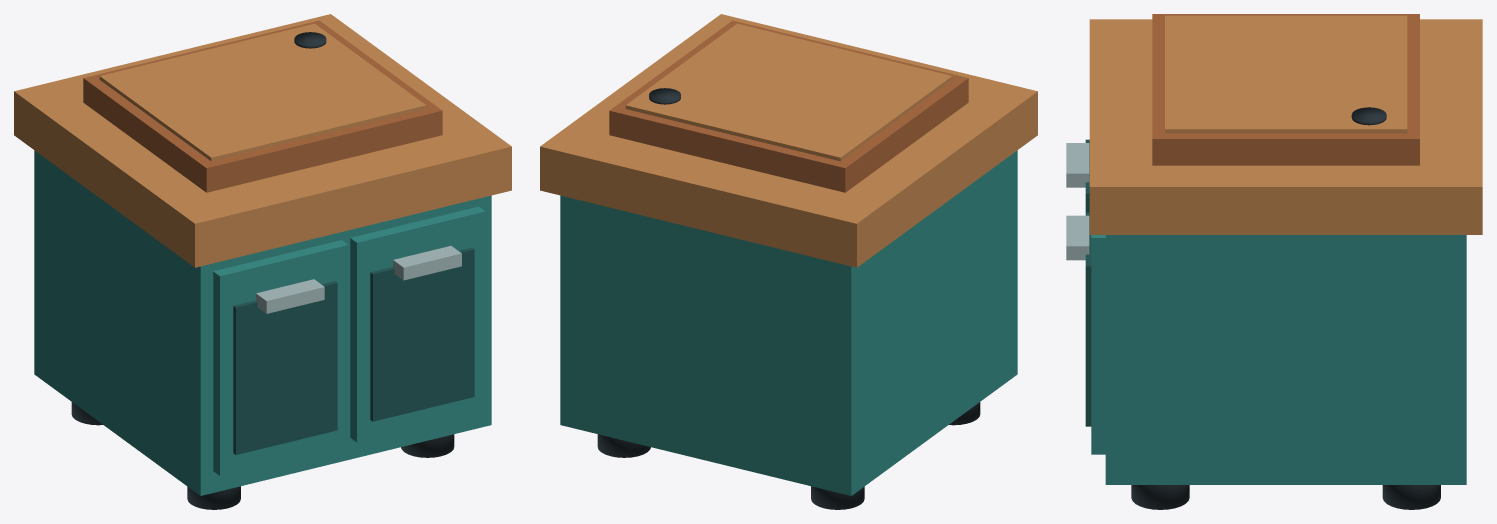
3 views of the same model, side by side, from view 1: azimuth 30°, elevation 25°; view 2: azimuth 150°, elevation 25°; view 3: azimuth 270°, elevation 25° (orthographic). The views are drawn at different scales.
Visible parts, largest first — view 1: Powder coated carcase.006, Work surface.006, Maple cutting surface, Recessed face.012, Recessed face.013, Maple chopping board, Inset cabinet door.013, Inset cabinet door.012, Brushed pull.012, Brushed pull.013, Recessed leveling foot.024, Recessed leveling foot.026; view 2: Powder coated carcase.006, Work surface.006, Maple cutting surface, Maple chopping board, Recessed leveling foot.025, Recessed leveling foot.027; view 3: Powder coated carcase.006, Work surface.006, Maple cutting surface, Maple chopping board, Inset cabinet door.013, Recessed leveling foot.027, Recessed leveling foot.026, Recessed face.013, Brushed pull.013, Brushed pull.012, Board grip insert.
Boxes of the visible parts, left/top/right/bottom form: Powder coated carcase.006: left=34, top=150, right=491, bottom=495; Work surface.006: left=14, top=14, right=511, bottom=267; Maple cutting surface: left=99, top=23, right=426, bottom=161; Recessed face.012: left=233, top=281, right=337, bottom=454; Recessed face.013: left=370, top=247, right=474, bottom=421; Maple chopping board: left=83, top=20, right=442, bottom=192; Inset cabinet door.013: left=350, top=206, right=485, bottom=442; Inset cabinet door.012: left=213, top=240, right=348, bottom=475; Brushed pull.012: left=256, top=279, right=324, bottom=313; Brushed pull.013: left=393, top=246, right=461, bottom=280; Recessed leveling foot.024: left=187, top=486, right=240, bottom=509; Recessed leveling foot.026: left=401, top=434, right=454, bottom=457; Powder coated carcase.006: left=560, top=150, right=1017, bottom=495; Work surface.006: left=540, top=14, right=1037, bottom=267; Maple cutting surface: left=625, top=23, right=952, bottom=161; Maple chopping board: left=609, top=20, right=968, bottom=192; Recessed leveling foot.025: left=811, top=486, right=864, bottom=509; Recessed leveling foot.027: left=597, top=434, right=650, bottom=457; Powder coated carcase.006: left=1105, top=235, right=1466, bottom=484; Work surface.006: left=1089, top=19, right=1482, bottom=234; Maple cutting surface: left=1165, top=15, right=1407, bottom=133; Maple chopping board: left=1152, top=14, right=1419, bottom=165; Inset cabinet door.013: left=1091, top=235, right=1105, bottom=454; Recessed leveling foot.027: left=1382, top=485, right=1440, bottom=509; Recessed leveling foot.026: left=1131, top=485, right=1189, bottom=509; Recessed face.013: left=1085, top=212, right=1091, bottom=426; Brushed pull.013: left=1066, top=215, right=1089, bottom=260; Brushed pull.012: left=1066, top=143, right=1089, bottom=187; Board grip insert: left=1351, top=107, right=1386, bottom=125.
Size of the model in its own units: 0.98 by 1.01 by 1.03.
